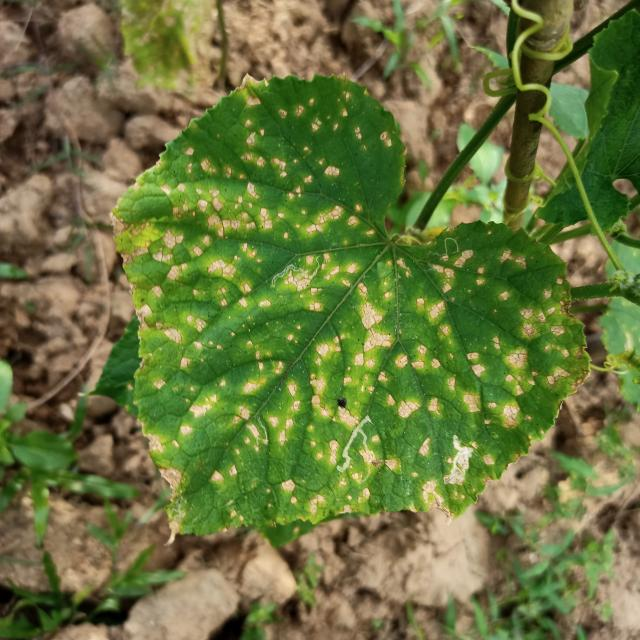disease_cucumber: (127, 91, 572, 530)
